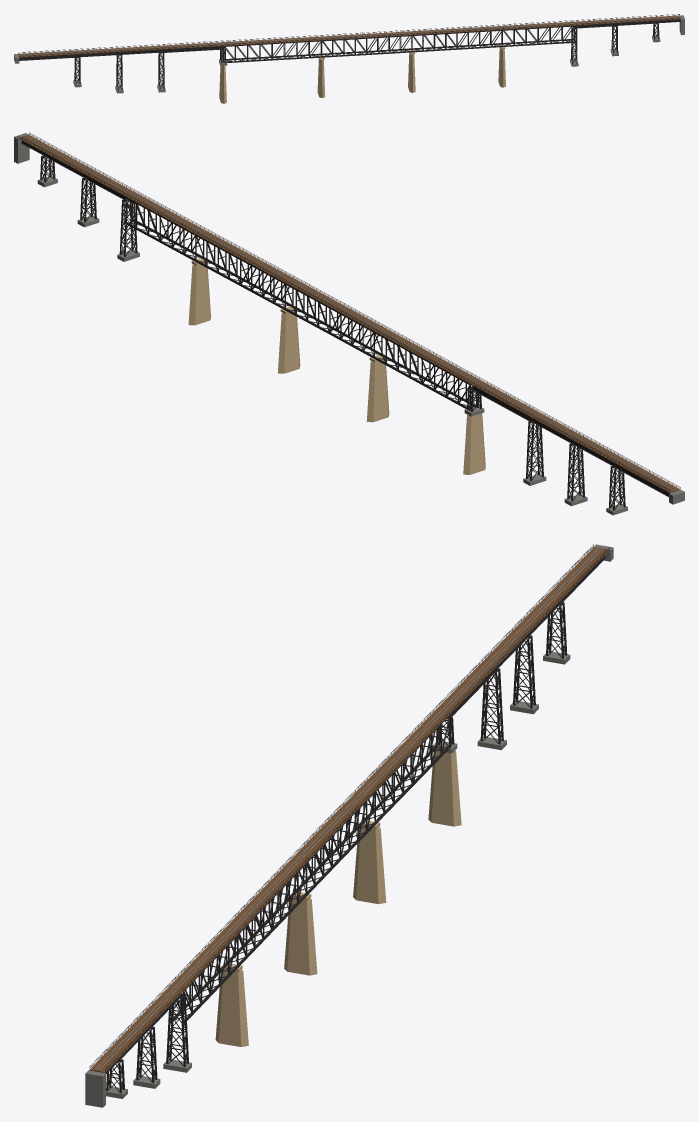
File: br_r22_clover_bar_railway.gltf
3 views of the same model, one above another, from view 1: azimuth 30°, elevation 25°; view 2: azimuth 150°, elevation 25°; view 3: azimuth 270°, elevation 25° (orthographic). The views are drawn at different scales.
Parts seen in each view (by area): view 1: br_r22_clover_bar_railway; view 2: br_r22_clover_bar_railway; view 3: br_r22_clover_bar_railway.
Boxes of the visible parts, x1,y1,x2,y2 form: br_r22_clover_bar_railway: [14, 14, 684, 103]; br_r22_clover_bar_railway: [14, 132, 684, 515]; br_r22_clover_bar_railway: [85, 544, 613, 1107].
Size of the model in its own units: 476 by 48.15 by 200.
